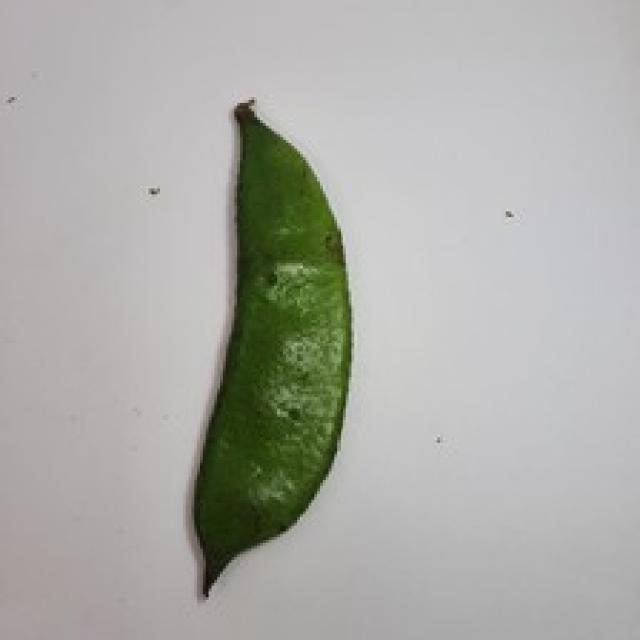Bean: (188, 95, 352, 594)
